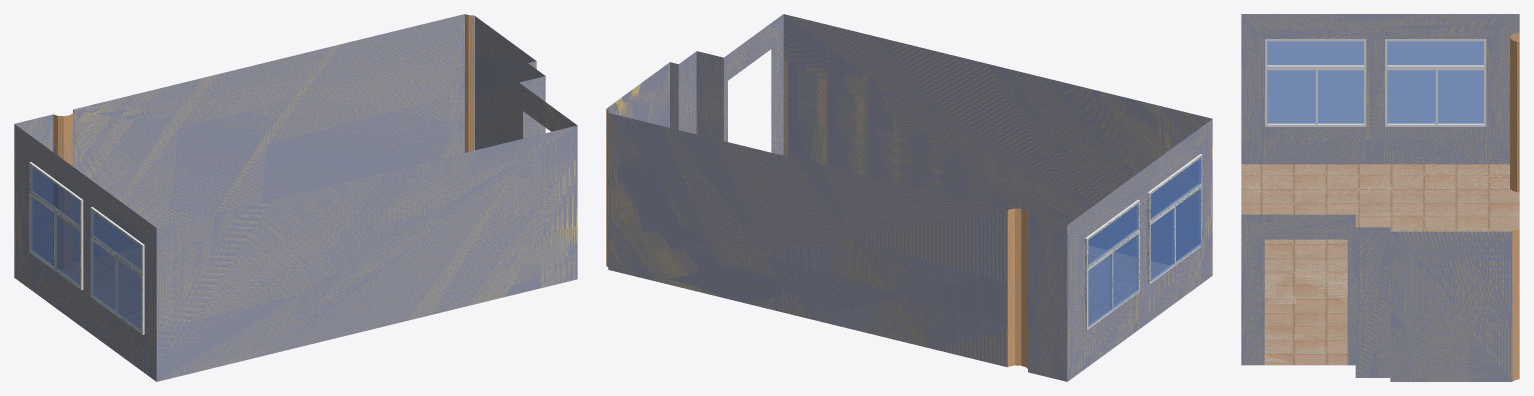
Rendered from AUL041.obj.
The picture shows the model from 3 angles, left to right: view 1: azimuth 30°, elevation 25°; view 2: azimuth 150°, elevation 25°; view 3: azimuth 270°, elevation 25°; orthographic projection. The views are drawn at different scales.
Parts seen in each view (by area): view 1: Mesh13 AUL041 Model, Mesh7 ventana1_2 AUL041 Model, Mesh1 ventana1_1 AUL041 Model; view 2: Mesh13 AUL041 Model, Mesh1 ventana1_1 AUL041 Model, Mesh7 ventana1_2 AUL041 Model; view 3: Mesh13 AUL041 Model, Mesh1 ventana1_1 AUL041 Model, Mesh7 ventana1_2 AUL041 Model.
Part boxes in pixels (bbox=[...]): Mesh13 AUL041 Model: bbox=[14, 14, 577, 381]; Mesh7 ventana1_2 AUL041 Model: bbox=[29, 162, 83, 290]; Mesh1 ventana1_1 AUL041 Model: bbox=[90, 207, 144, 334]; Mesh13 AUL041 Model: bbox=[606, 14, 1212, 381]; Mesh1 ventana1_1 AUL041 Model: bbox=[1147, 154, 1202, 284]; Mesh7 ventana1_2 AUL041 Model: bbox=[1085, 200, 1139, 330]; Mesh13 AUL041 Model: bbox=[1241, 14, 1519, 381]; Mesh1 ventana1_1 AUL041 Model: bbox=[1265, 39, 1366, 126]; Mesh7 ventana1_2 AUL041 Model: bbox=[1385, 39, 1486, 126].
Size of the model in its own units: 11.21 by 3.6 by 6.04.
Materials: 8 (2 with a texture image).
